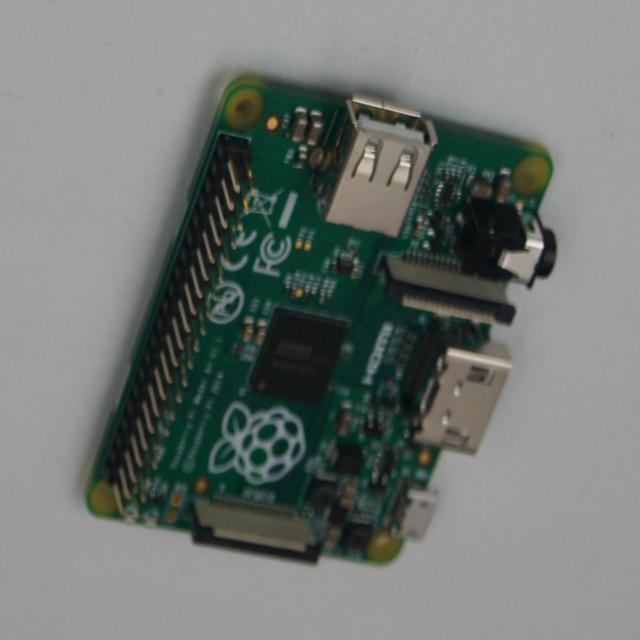Raspberry-Pi-1-A-: (87, 75, 557, 563)
